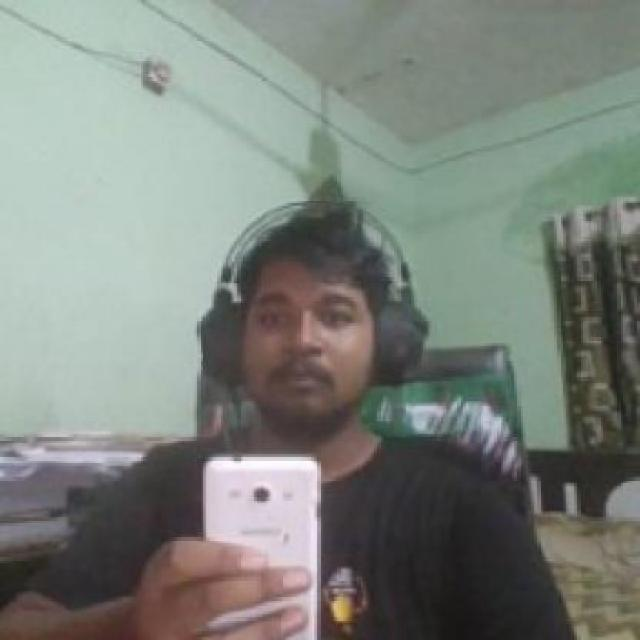Phone: (205, 454, 321, 637)
